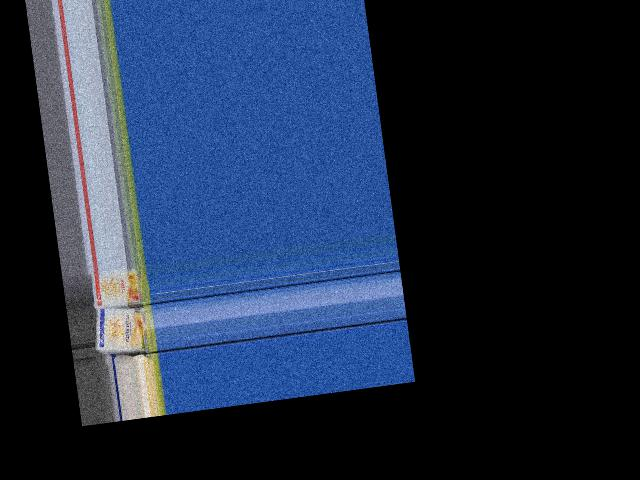cheese: (86, 264, 151, 309)
